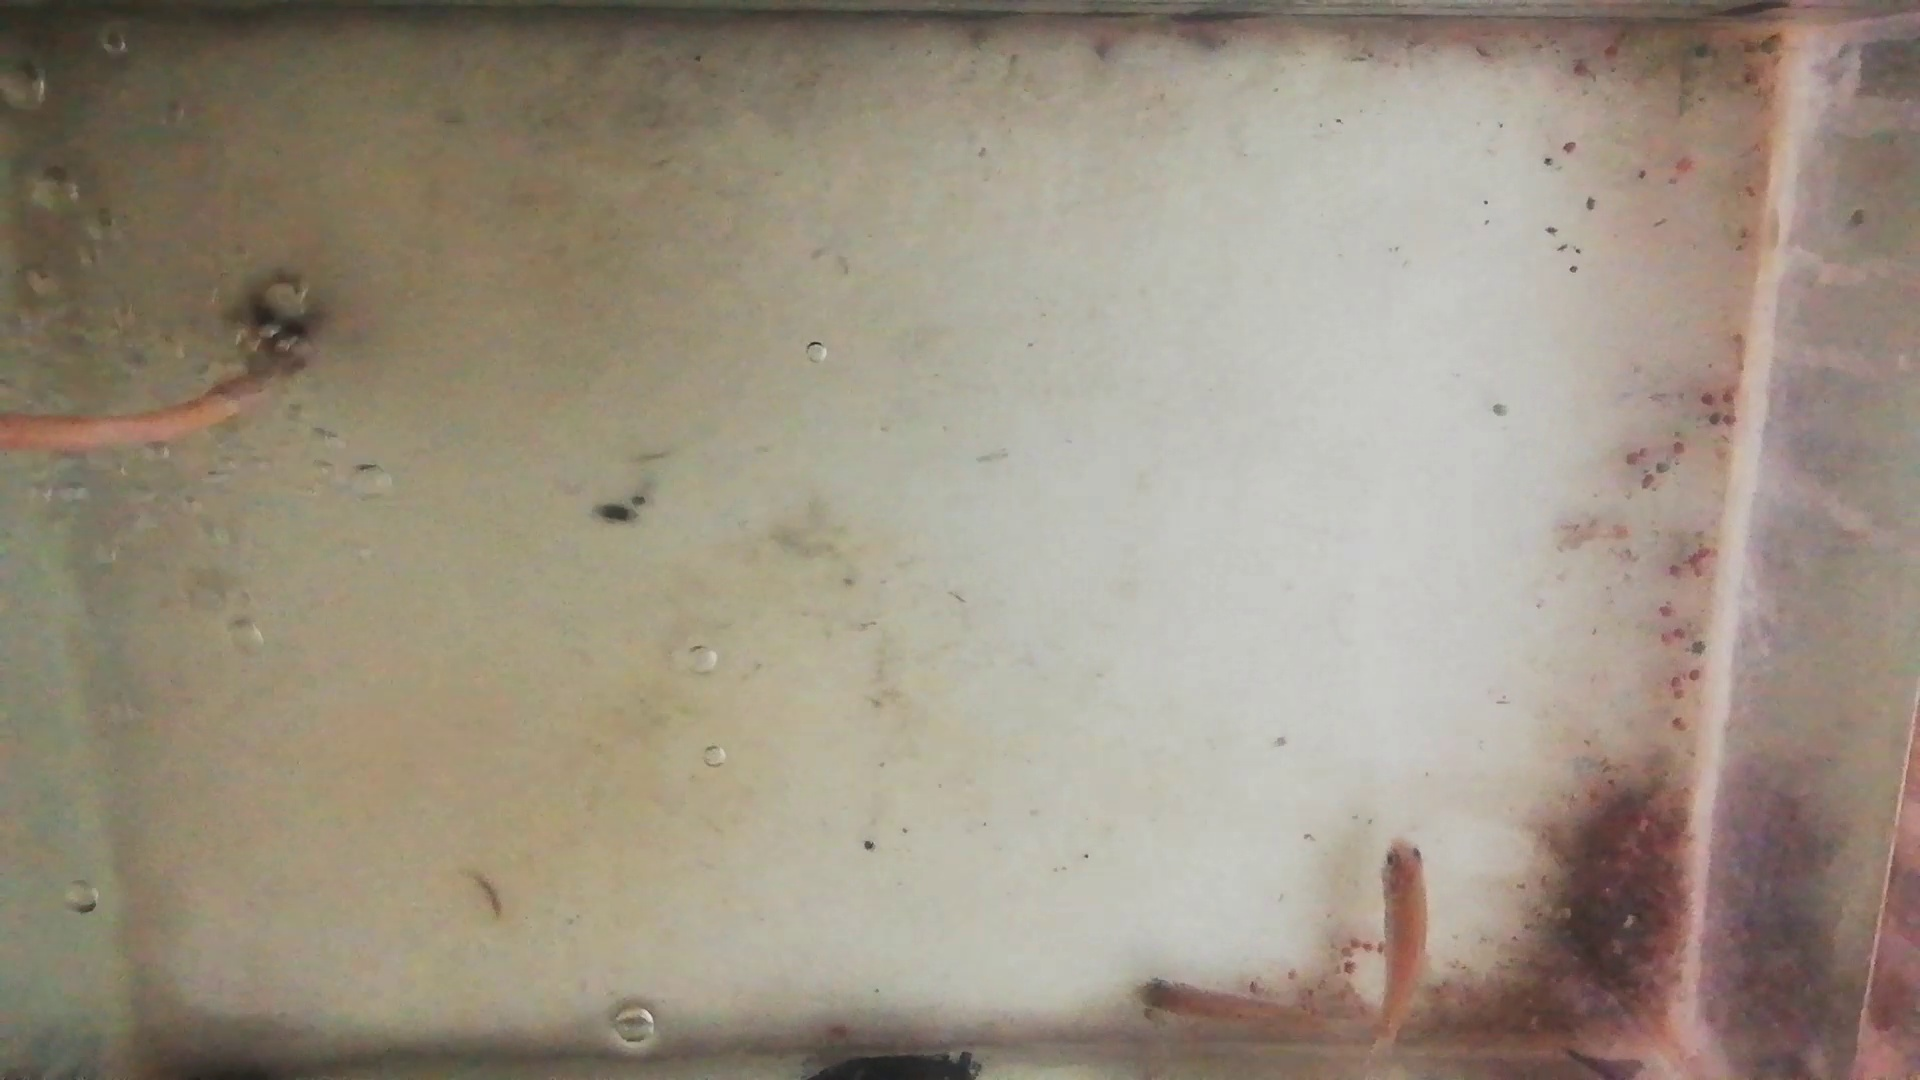fish: (1374, 840, 1431, 1047), (1130, 981, 1325, 1034)
